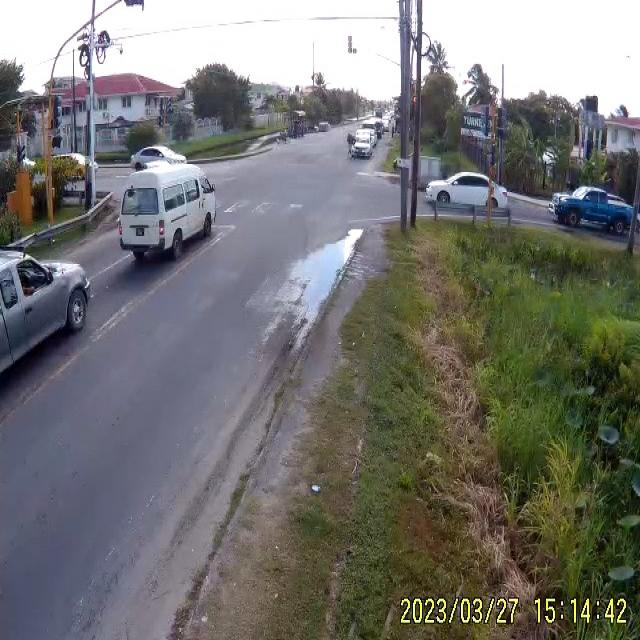car: (118, 168, 216, 260), (552, 188, 637, 235), (425, 172, 507, 208), (132, 147, 188, 172), (351, 129, 377, 159)
